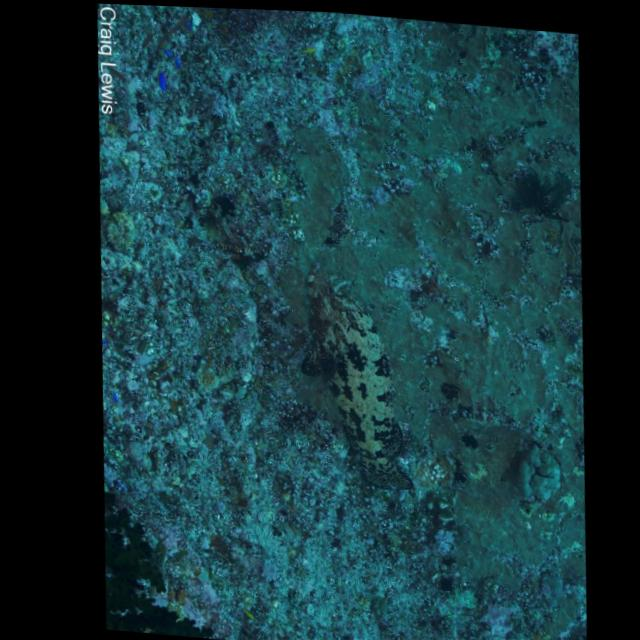Groupers: (287, 263, 425, 495)
